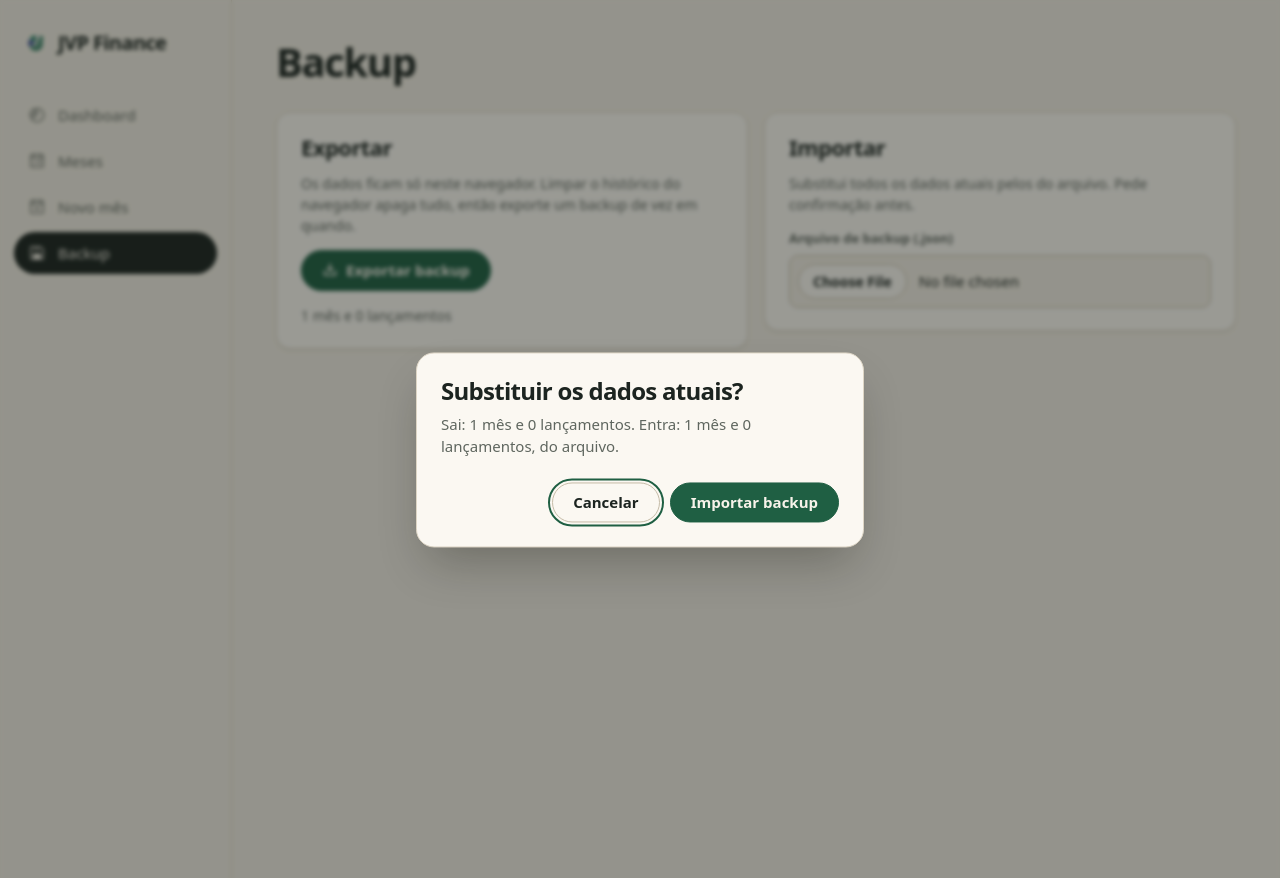
importar backup válido substitui os dados após confirmação
The width and height of the screenshot is (1280, 878).
Earlier steps of the test are not shown.
Click the button "Importar backup". click: [754, 502]
box: [670,482,839,522]
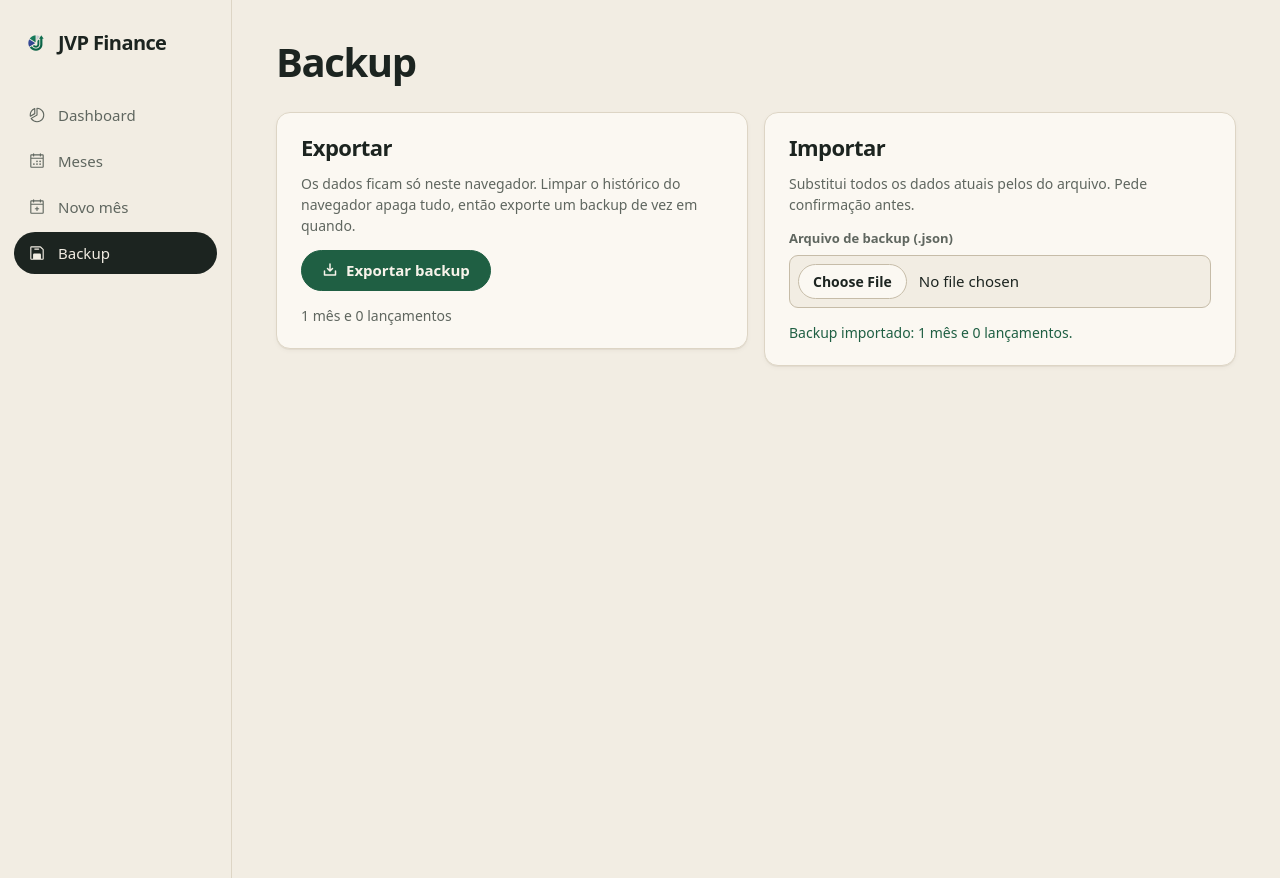
Check: the text "Backup importado: 1 mês e 0 lançamentos." is shown, box [789,322,1072,343]
Click the button "Dashboard". click: [116, 115]
box: [14,94,217,136]
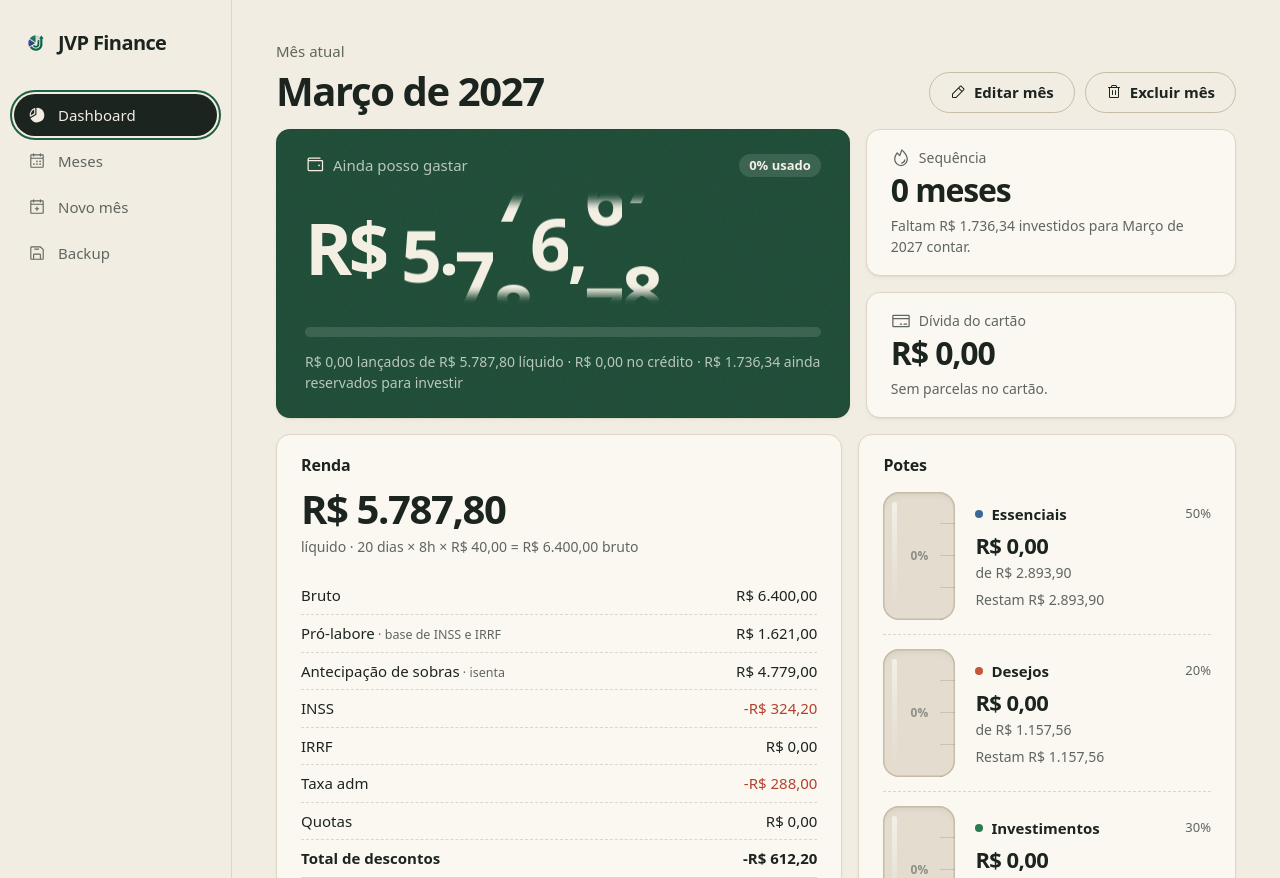
Check: the heading "Março de 2027" is shown, box [276,68,544,112]
